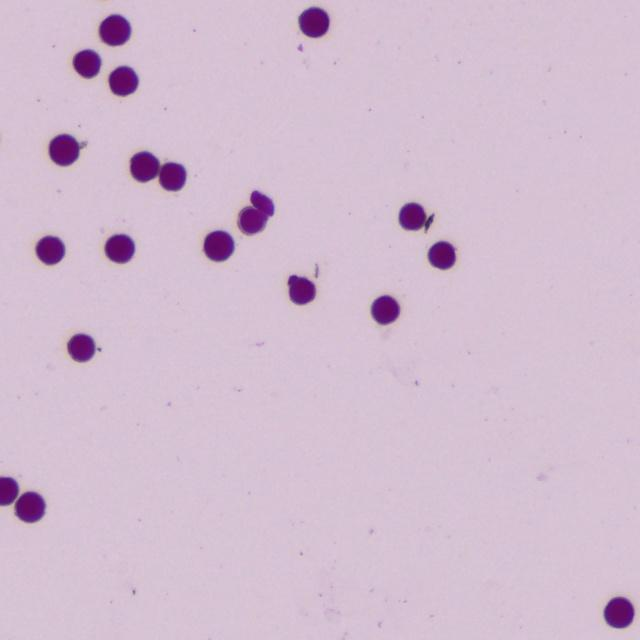viable: (203, 230, 234, 261), (99, 15, 130, 45), (604, 597, 634, 628), (299, 7, 329, 37), (49, 134, 78, 165), (130, 151, 159, 182), (109, 66, 138, 96), (15, 492, 44, 521), (105, 234, 134, 263), (371, 295, 399, 324), (36, 235, 64, 264), (67, 334, 95, 362), (238, 207, 267, 234), (73, 49, 100, 78), (428, 241, 455, 269), (159, 162, 186, 190), (289, 275, 315, 304), (399, 203, 426, 230), (0, 477, 18, 505)
